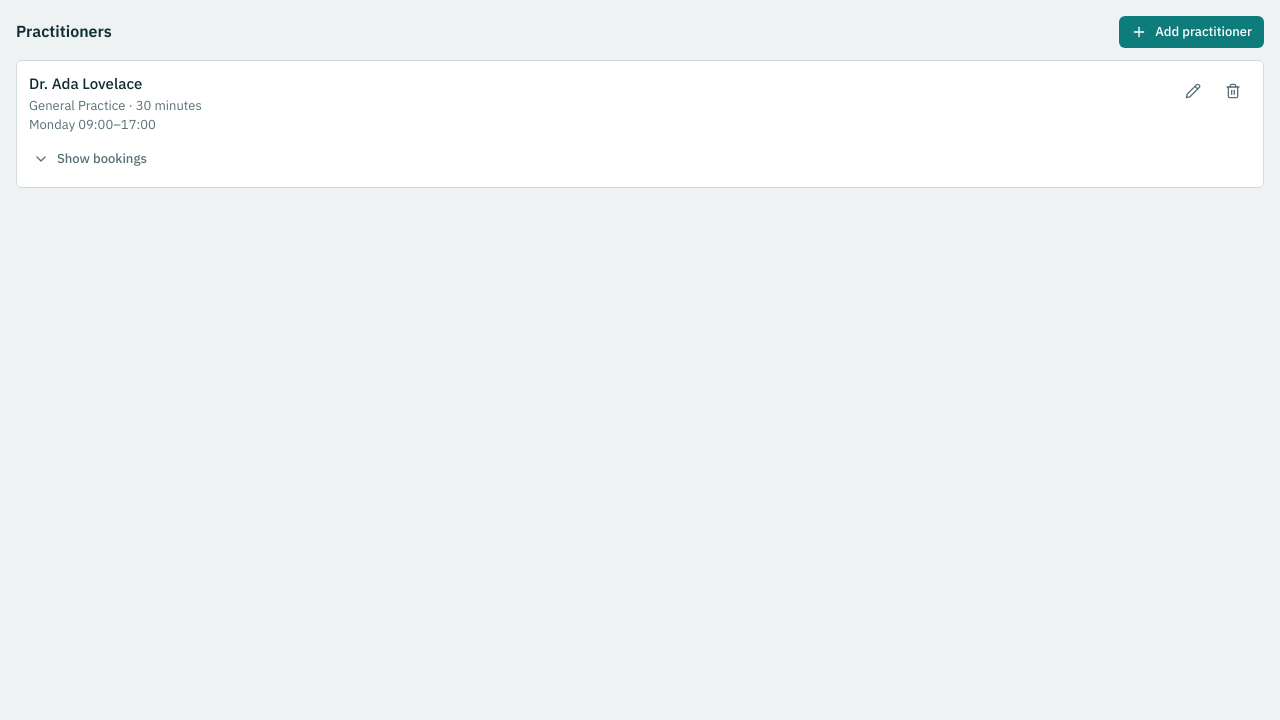
PractitionerAdmin: the roster › opens a practitioner on what the assistant books from
Press the mouse on the button named "Edit Dr. Ada Lovelace" at (1193, 91), box [1175,73,1211,109]
Click the button named "Edit Dr. Ada Lovelace" at (1193, 91), box [1175,73,1211,109]
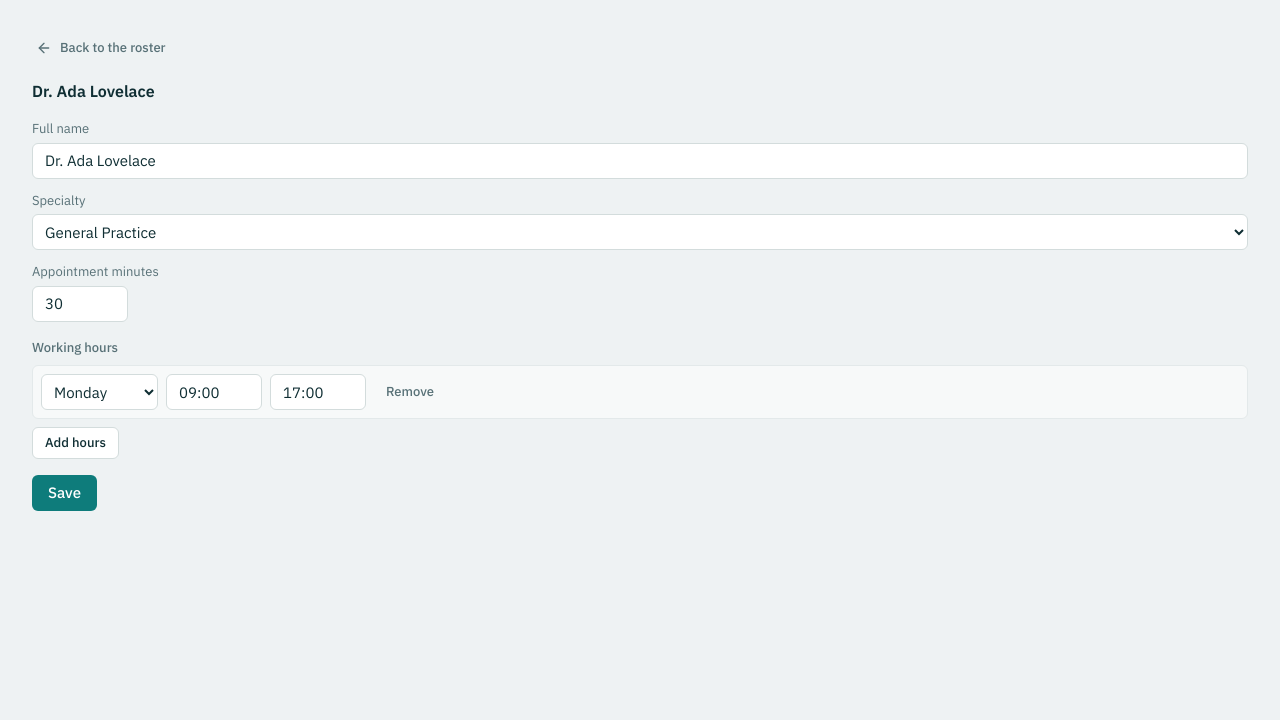
Expected: the field showing "Dr. Ada Lovelace" is shown, [32,143,1248,179]
Expected: the number field showing "30" is shown, [32,286,128,322]
Expected: the field showing "09:00" is shown, [166,374,262,410]
